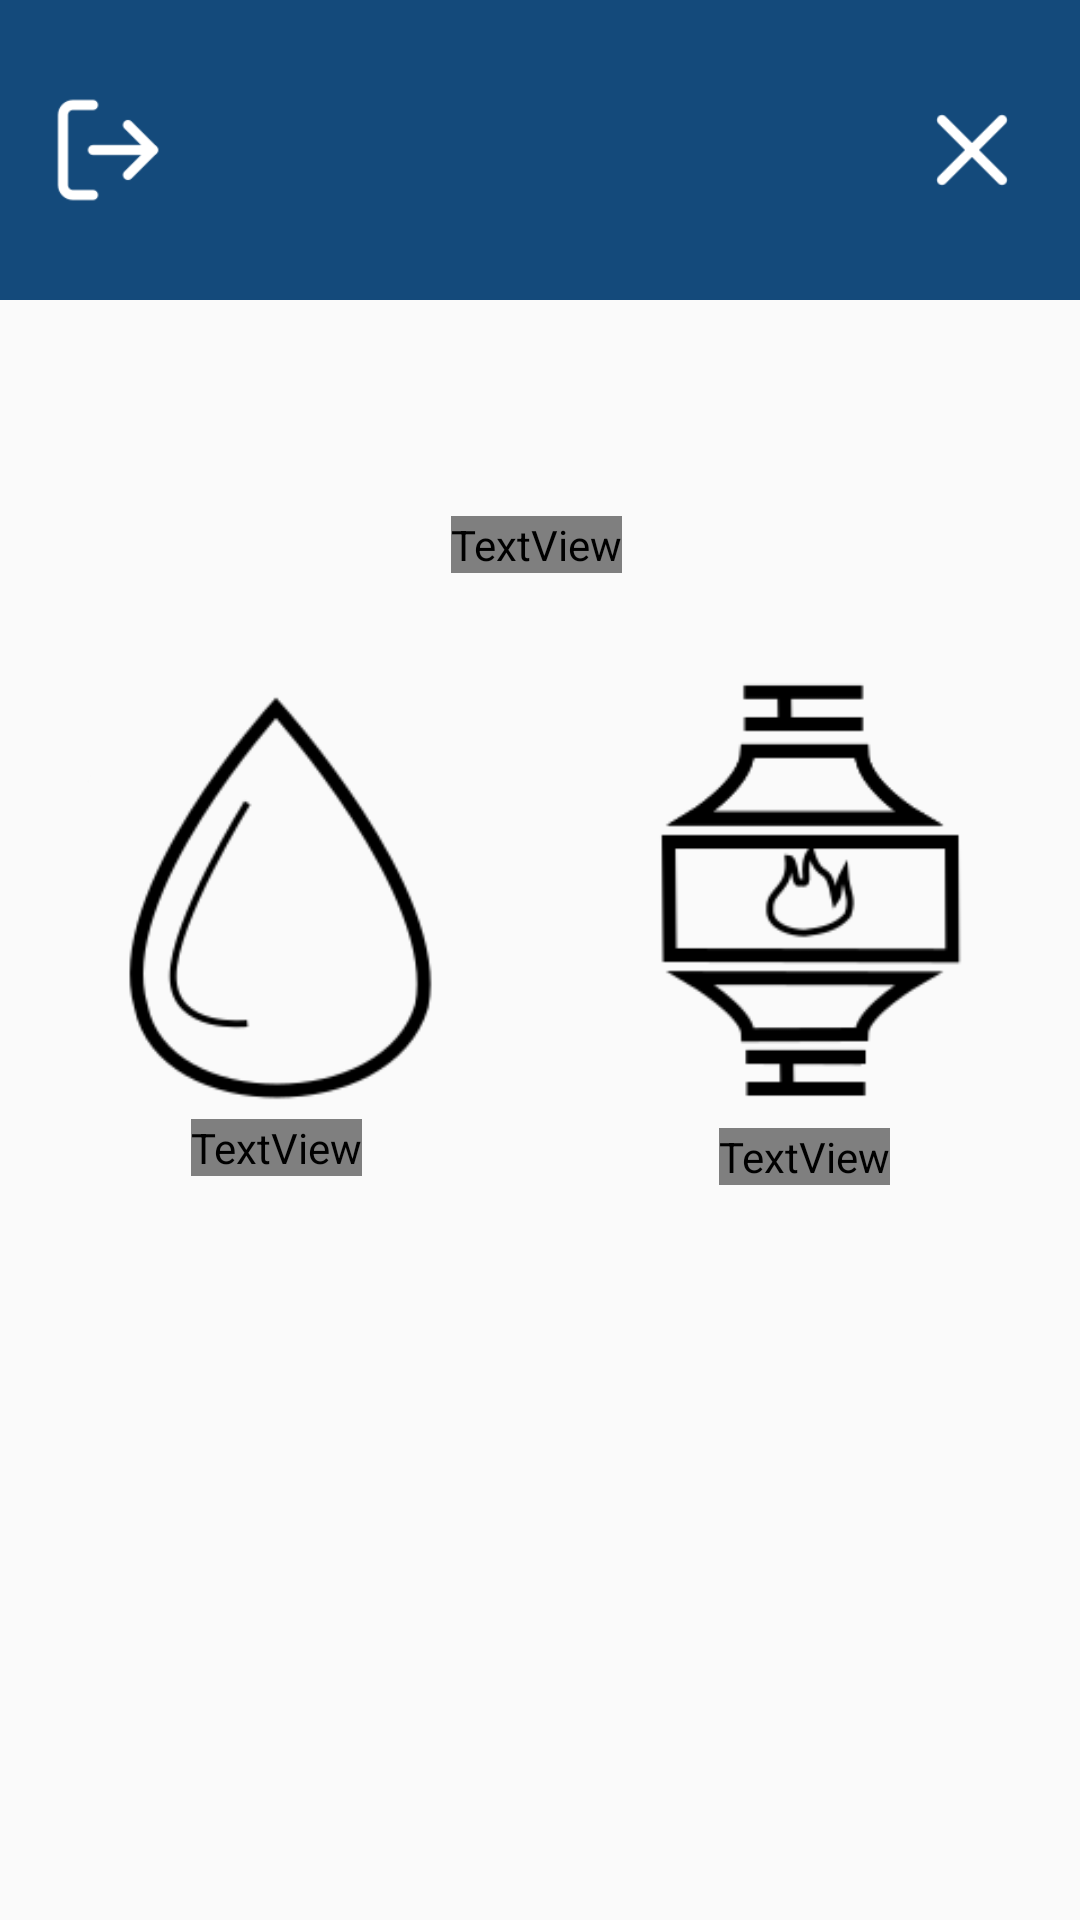

Named icons in this screenshot (1080w x 1920h) and their bounding boxes, bbox=(x1, y1, x2, y2):
Fechar app: bbox=(937, 115, 1007, 185)
